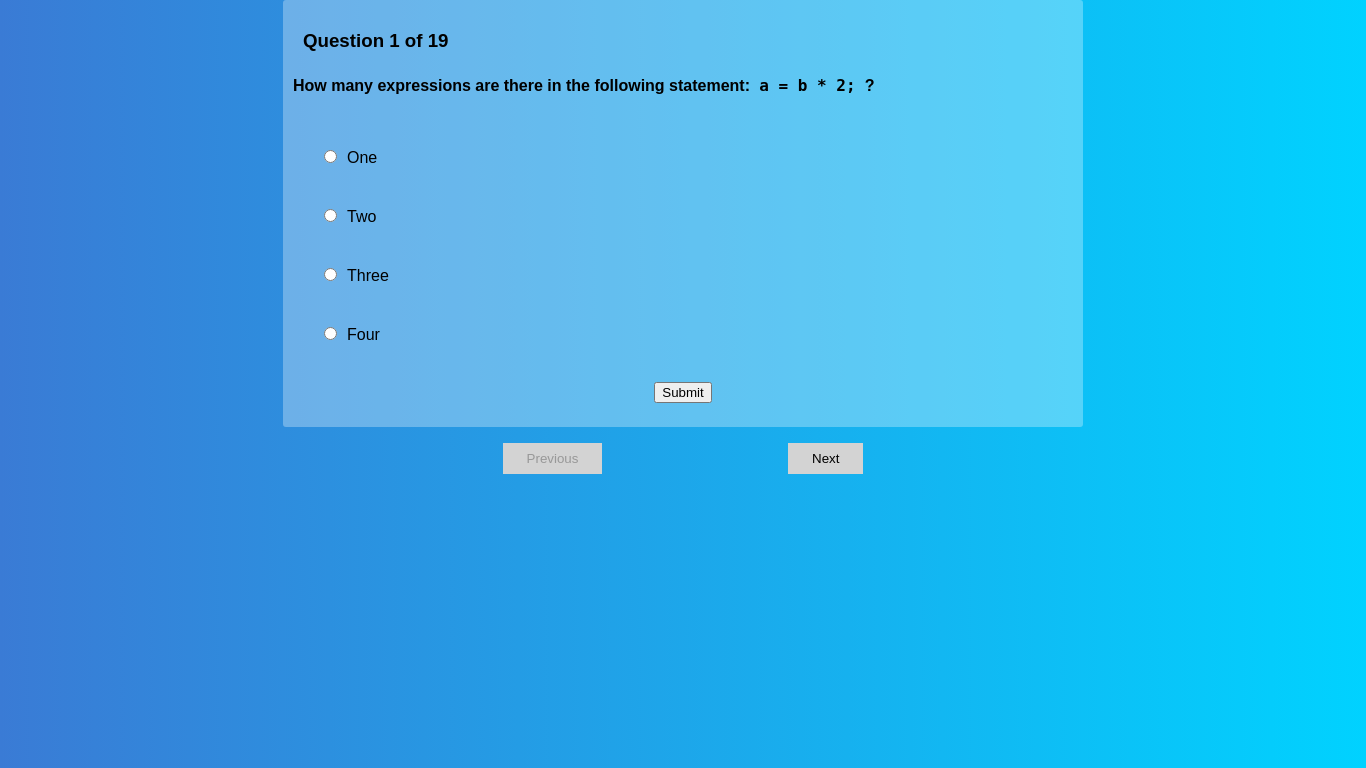
Test: should show "Correct!" when correct answer submitted
Click the radio button labelled "Four": {"x": 330, "y": 333} [324, 327, 337, 340]
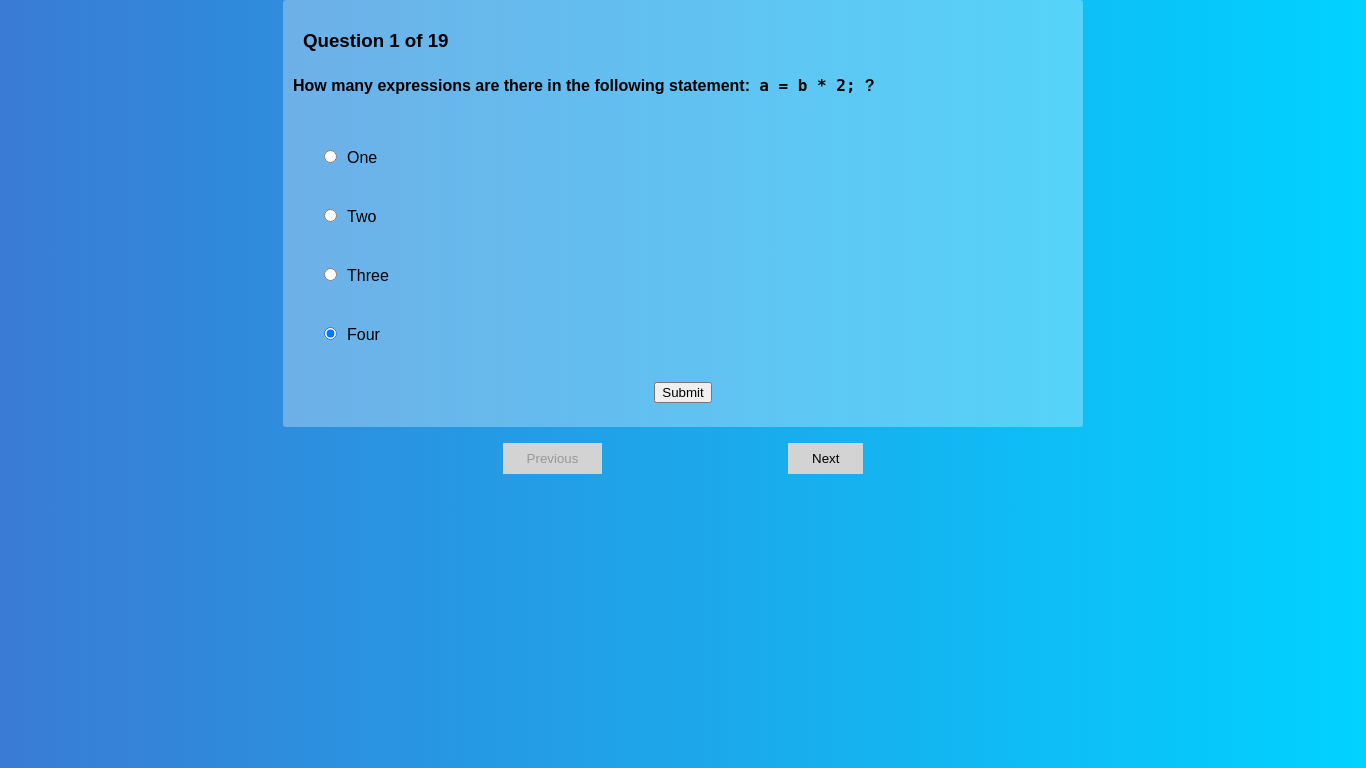
Click the button "Submit": {"x": 683, "y": 392} [654, 382, 712, 403]
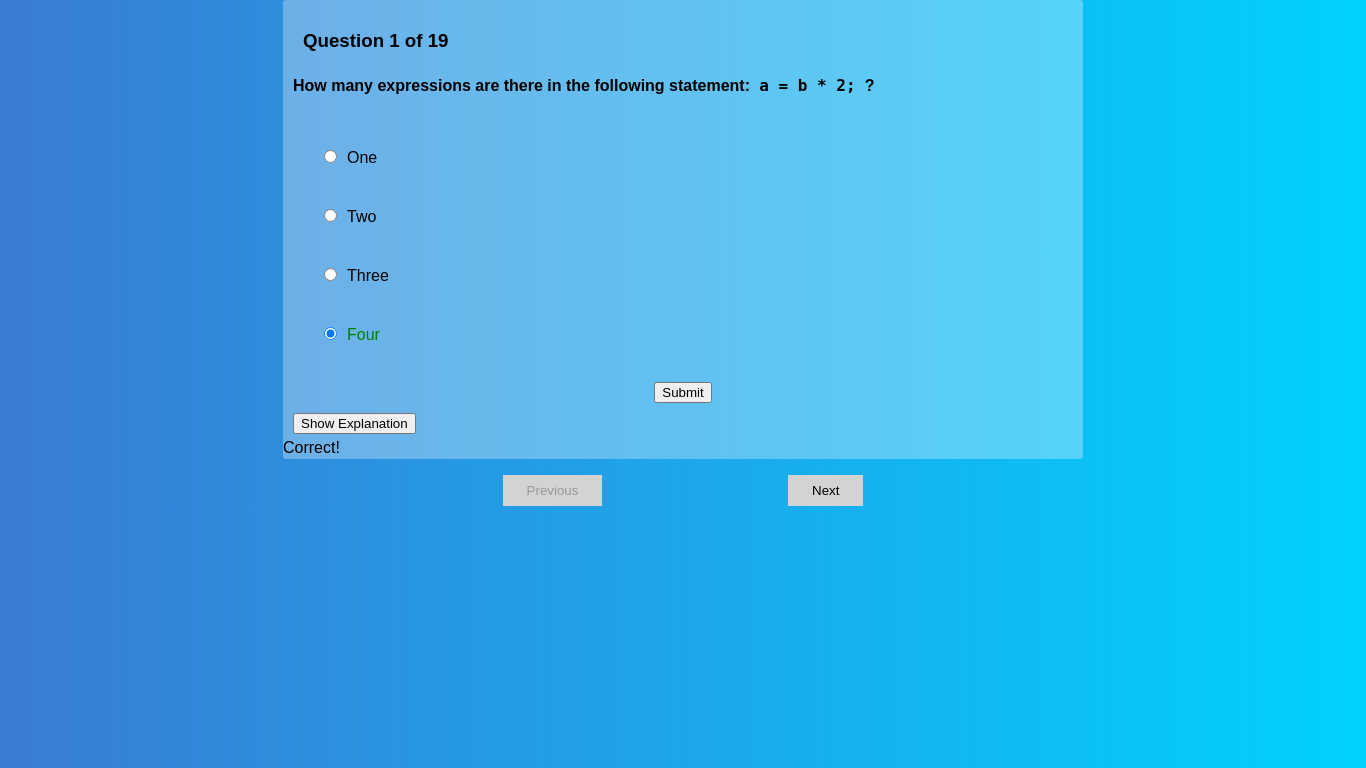
Check: the text "Correct!" is shown, box [283, 439, 340, 456]
